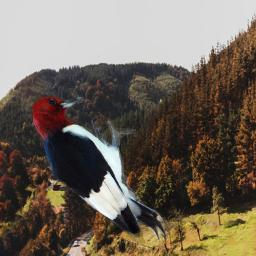Woodpecker: (33, 94, 171, 243)
